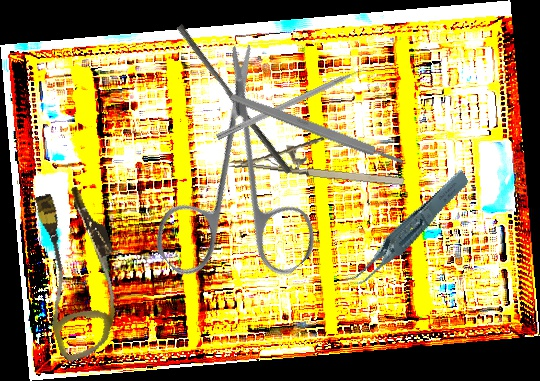Cannula: (14, 180, 141, 364)
Chopper: (215, 62, 377, 149)
Iris Scissors: (90, 38, 383, 330)
Needle Holder: (227, 124, 409, 192)
Pusher: (171, 23, 298, 175)
Scalpel Handle: (229, 91, 405, 168)
Tissue Forceps: (325, 168, 487, 290)
